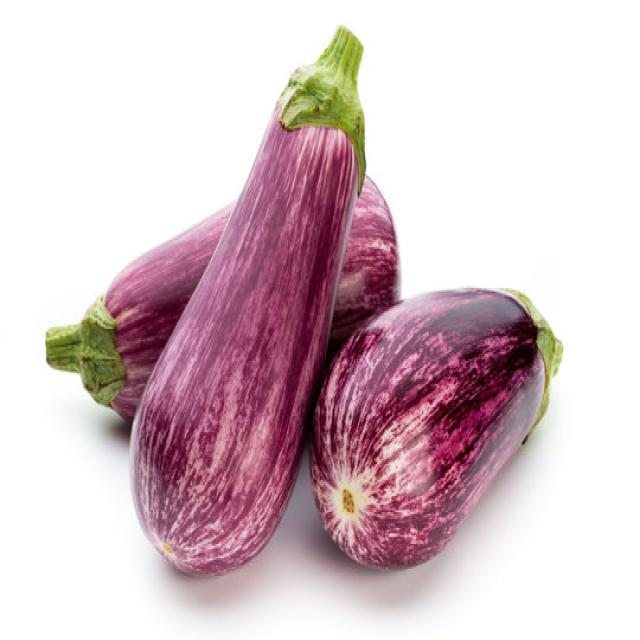Eggplant: (127, 23, 366, 576), (308, 284, 562, 570), (44, 195, 237, 425), (327, 172, 401, 348)
